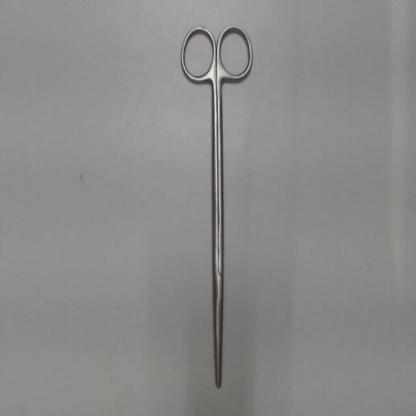9 Metzenbaum Scissors: (174, 20, 257, 396)
